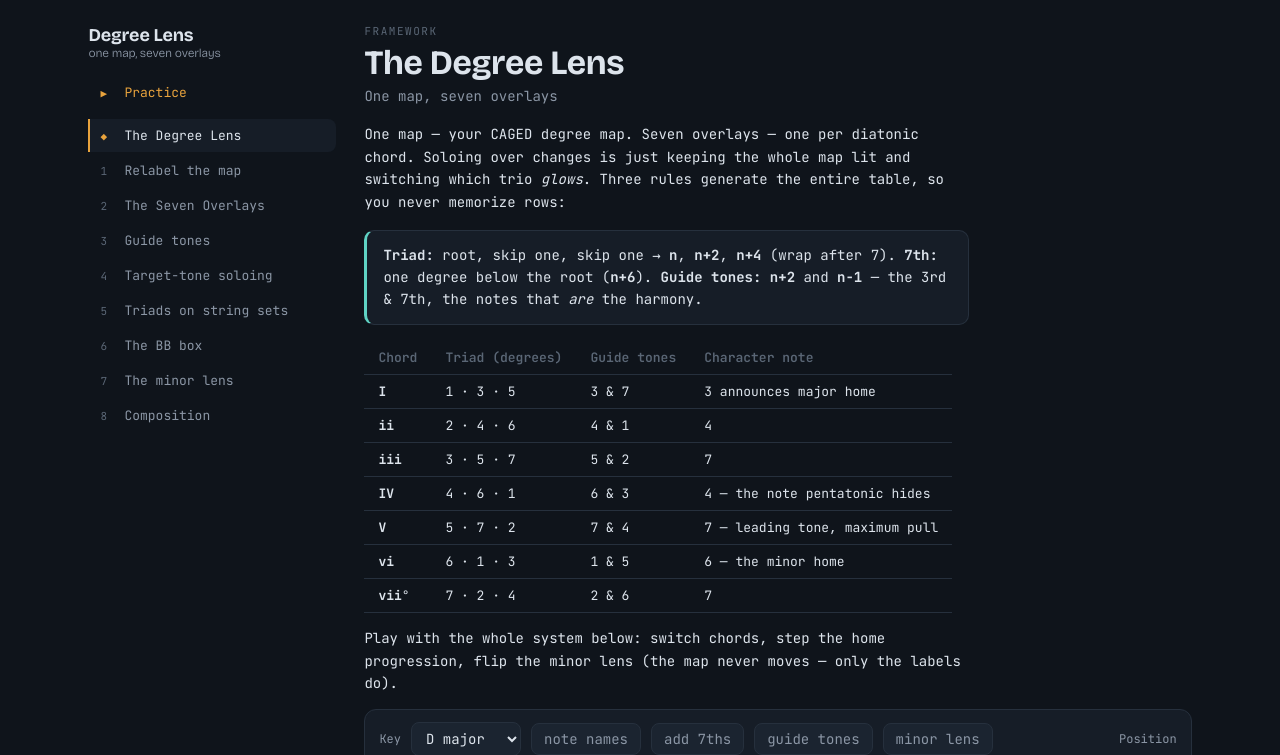
Scenario: <App /> navigation › navigates to a module and updates the hash
Click the button "5 Triads on string sets" at (212,310), box [88,294,336,327]
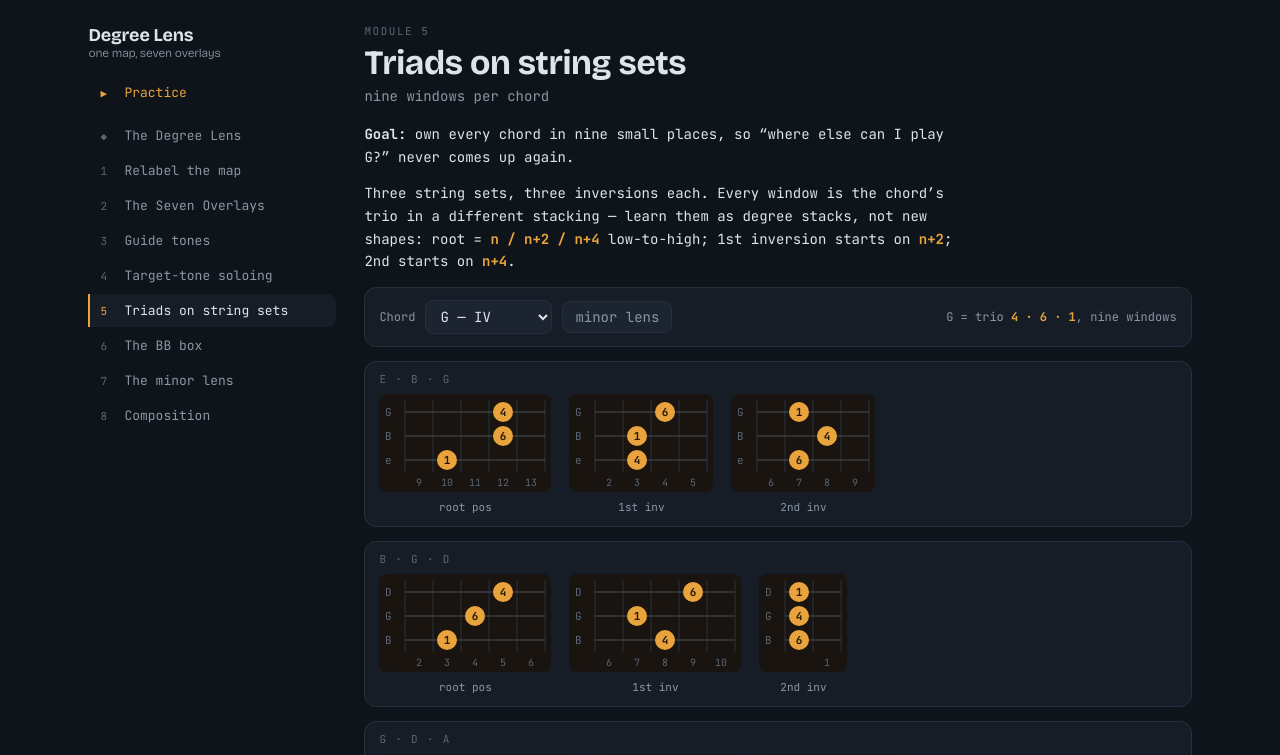
Check: the heading "Triads on string sets" is shown, box [364,42,686,83]
